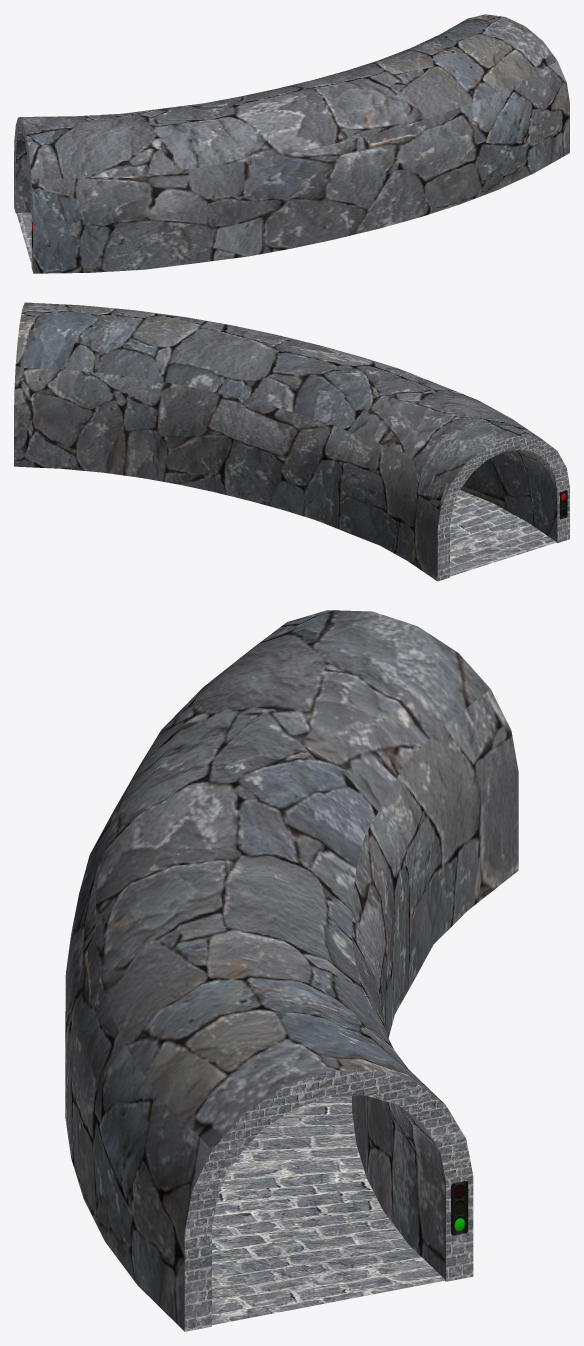
Rendered from tunnel_right.fbx.
3 views of the same model, one above another, from view 1: azimuth 30°, elevation 25°; view 2: azimuth 150°, elevation 25°; view 3: azimuth 270°, elevation 25° (orthographic). The views are drawn at different scales.
Visible parts, largest first — view 1: pPipe1, pPlane1; view 2: pPipe1, pPlane1; view 3: pPipe1, pPlane1.
Boxes of the visible parts, left/top/right/bottom form: pPipe1: left=14, top=14, right=569, bottom=273; pPlane1: left=16, top=212, right=31, bottom=264; pPipe1: left=14, top=302, right=569, bottom=581; pPlane1: left=450, top=490, right=556, bottom=576; pPipe1: left=65, top=610, right=518, bottom=1331; pPlane1: left=212, top=1096, right=445, bottom=1324.
Bounding box in the file's own units: 23.42 × 4.96 × 8.73.
Materials: 1 (1 with a texture image).
